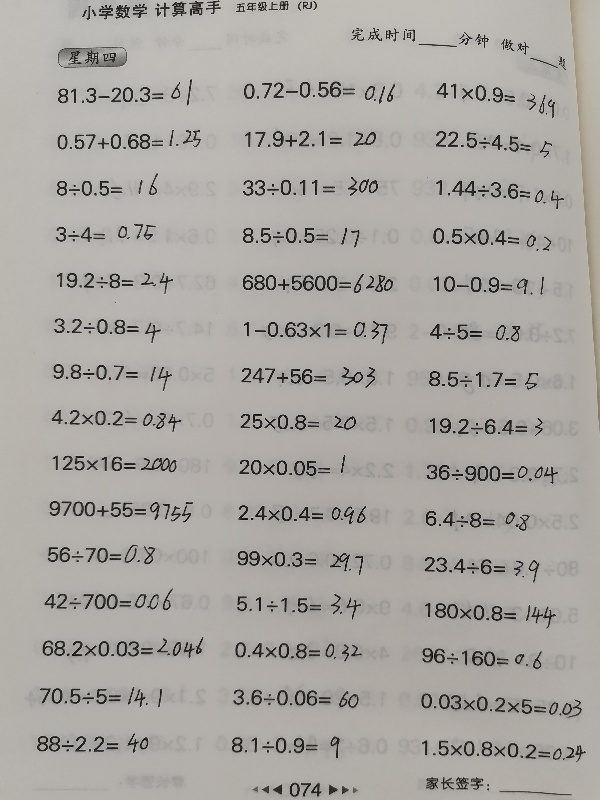equation: (415, 733, 590, 765), (433, 81, 562, 123), (38, 634, 207, 663), (432, 178, 569, 213), (54, 76, 196, 109), (416, 692, 585, 719), (239, 313, 391, 343), (239, 77, 398, 105), (45, 497, 196, 526), (233, 586, 364, 619), (239, 270, 397, 297), (421, 597, 559, 627), (53, 126, 204, 153), (41, 585, 177, 614), (49, 361, 175, 392), (428, 225, 557, 255), (237, 364, 385, 390), (240, 173, 382, 199), (36, 681, 165, 709), (54, 268, 178, 297), (48, 405, 184, 431), (234, 501, 369, 527), (421, 554, 542, 583), (422, 460, 561, 485), (52, 173, 173, 201), (230, 638, 365, 663), (228, 733, 344, 762), (229, 685, 362, 710), (242, 127, 380, 151), (418, 645, 545, 671), (33, 730, 153, 757), (432, 130, 555, 156), (50, 314, 164, 342), (238, 223, 363, 248), (235, 453, 350, 480), (49, 452, 180, 475), (426, 414, 546, 439), (43, 540, 158, 566), (237, 410, 361, 434), (430, 272, 547, 297), (421, 506, 533, 532), (424, 367, 540, 392), (52, 220, 159, 245), (425, 319, 523, 344), (233, 547, 319, 570)
